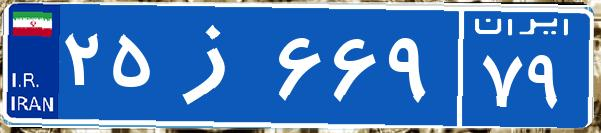2: (57, 26, 110, 107)
5: (110, 28, 158, 105)
6: (273, 28, 330, 110), (330, 28, 385, 110)
7: (475, 38, 525, 113)
9: (385, 28, 445, 110), (525, 38, 570, 115)
ز: (158, 15, 273, 115)
